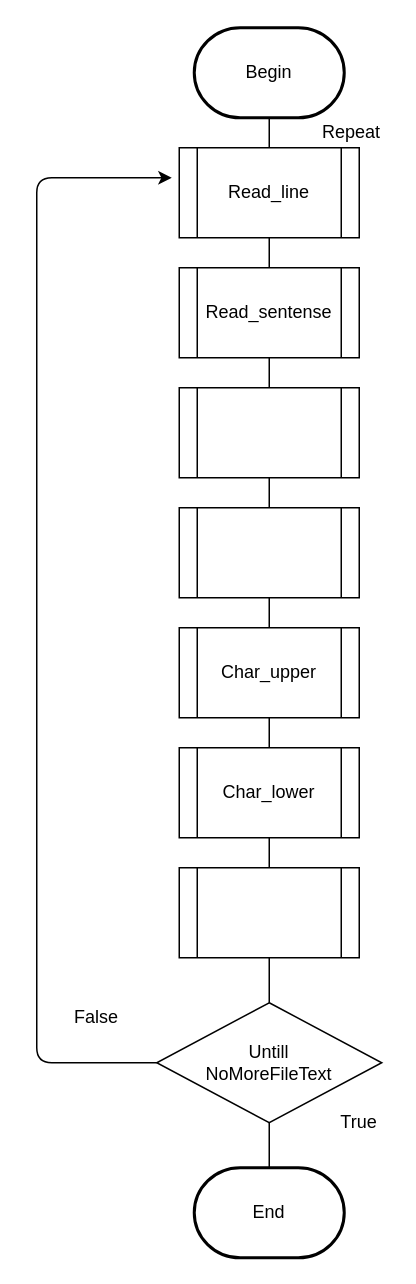
Image size: 416x1284. Some labels were removed from this diagram. Here are the shapes that lost their labels. From the top down, the centre of each, then its label:
the point at 268,432: Read_word
the point at 268,552: Read_Character
the point at 268,912: Special_char
